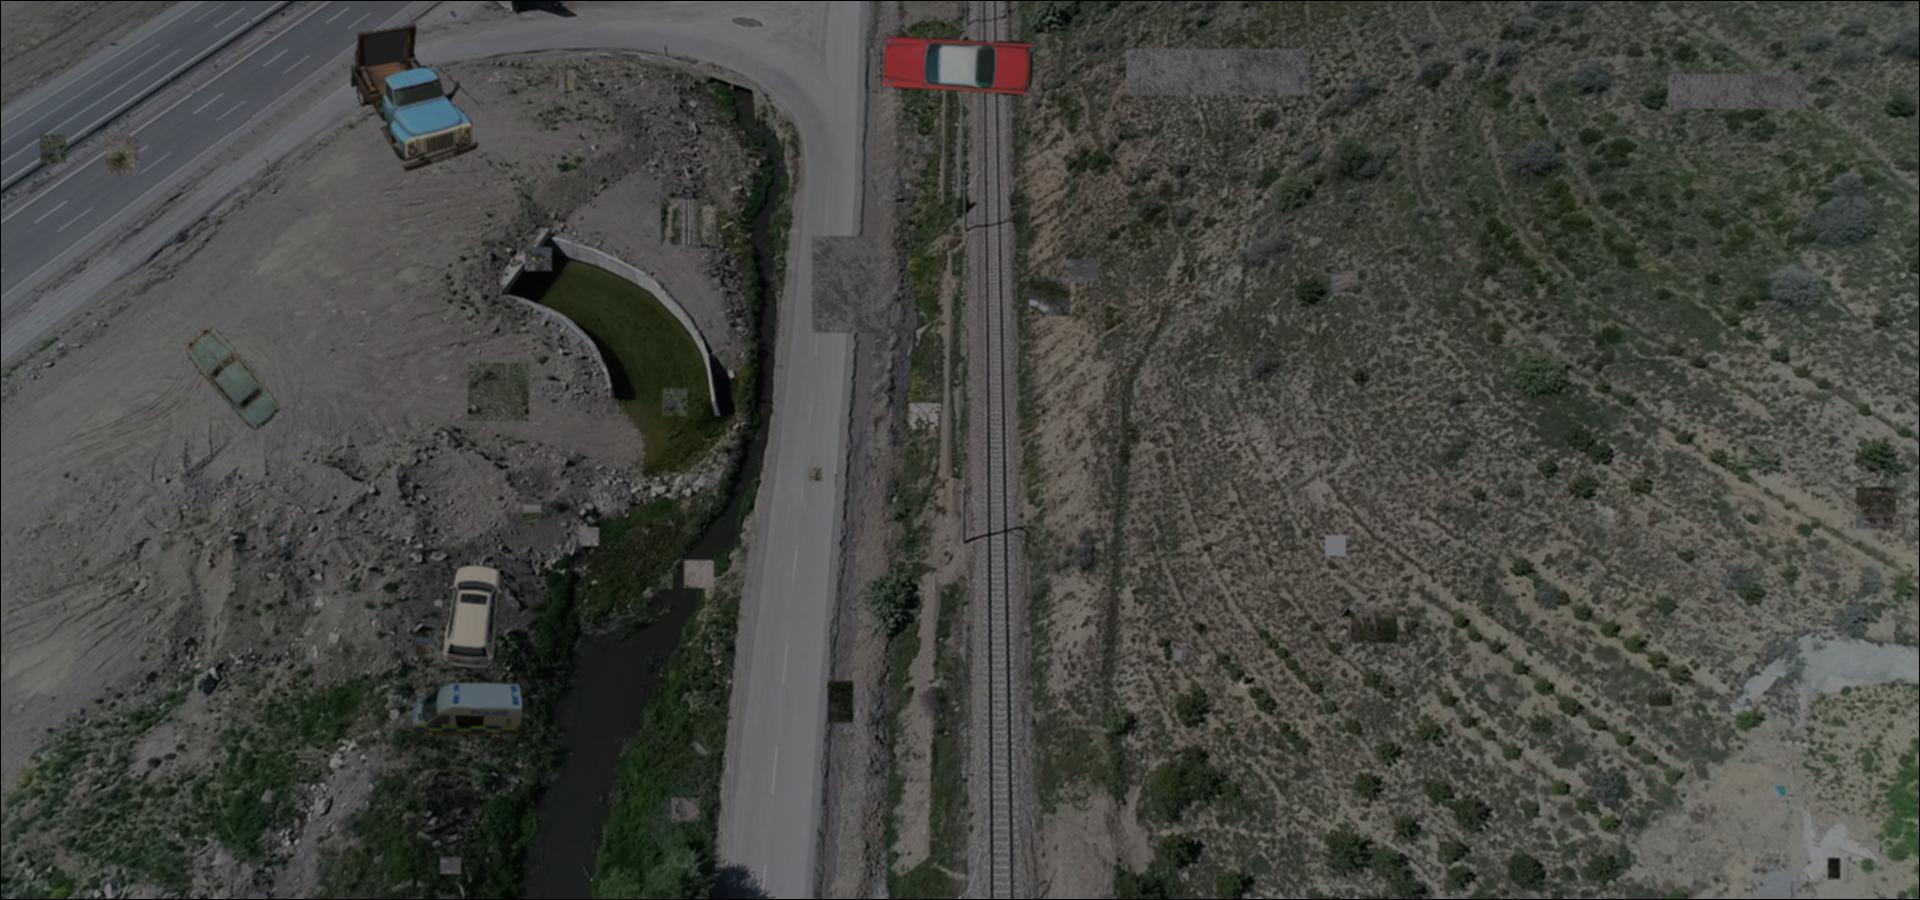arac: (351, 21, 481, 171), (182, 323, 284, 430), (876, 31, 1037, 97), (407, 680, 525, 741), (438, 562, 504, 669)
